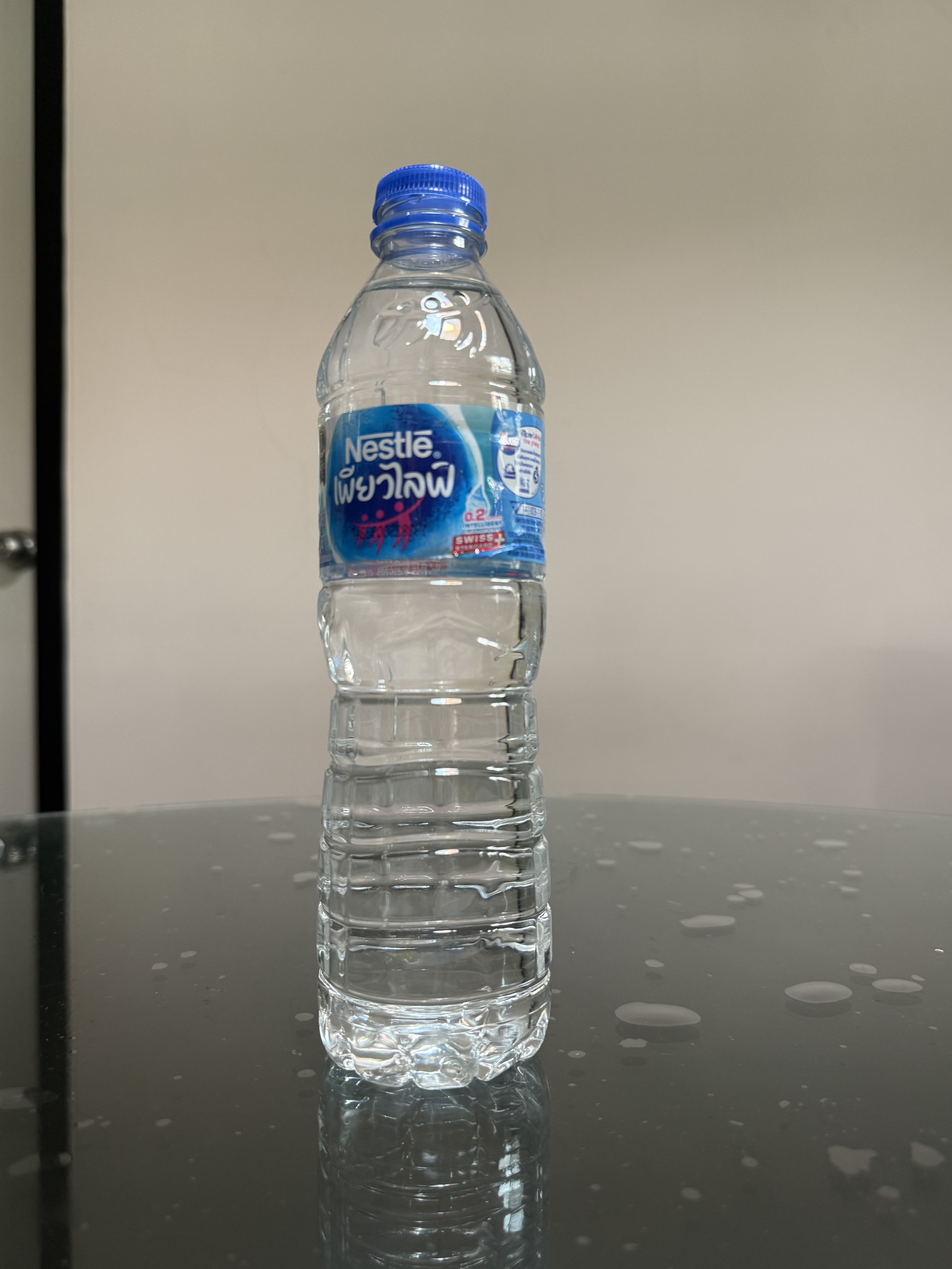half_cap: (368, 160, 489, 257)
